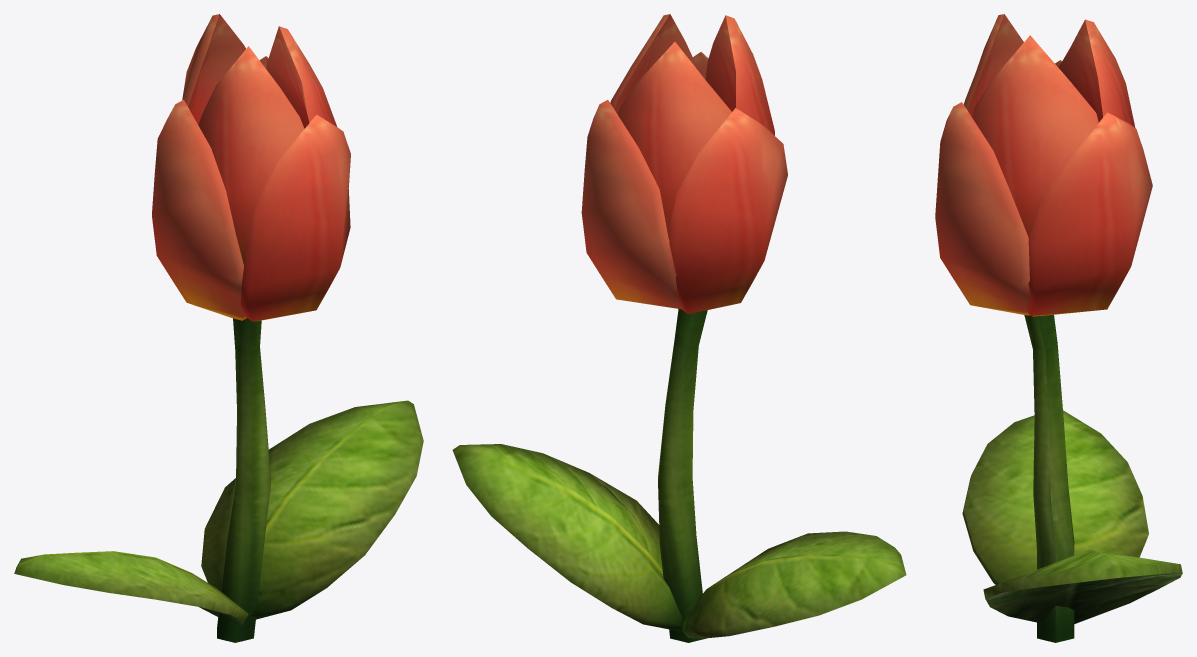
Rendered from VEG0310033.fbx.
The picture shows the model from 3 angles, left to right: view 1: azimuth 30°, elevation 25°; view 2: azimuth 150°, elevation 25°; view 3: azimuth 270°, elevation 25°; orthographic projection.
Visible parts, largest first — view 1: smVEG0310033; view 2: smVEG0310033; view 3: smVEG0310033.
Boxes of the visible parts, box(x1,y1,x2,y2) form: smVEG0310033: box(14, 14, 423, 642); smVEG0310033: box(452, 14, 906, 642); smVEG0310033: box(935, 14, 1182, 642).
Size of the model in its own units: 29.1 by 39.5 by 14.44.
Materials: 1 (1 with a texture image).
